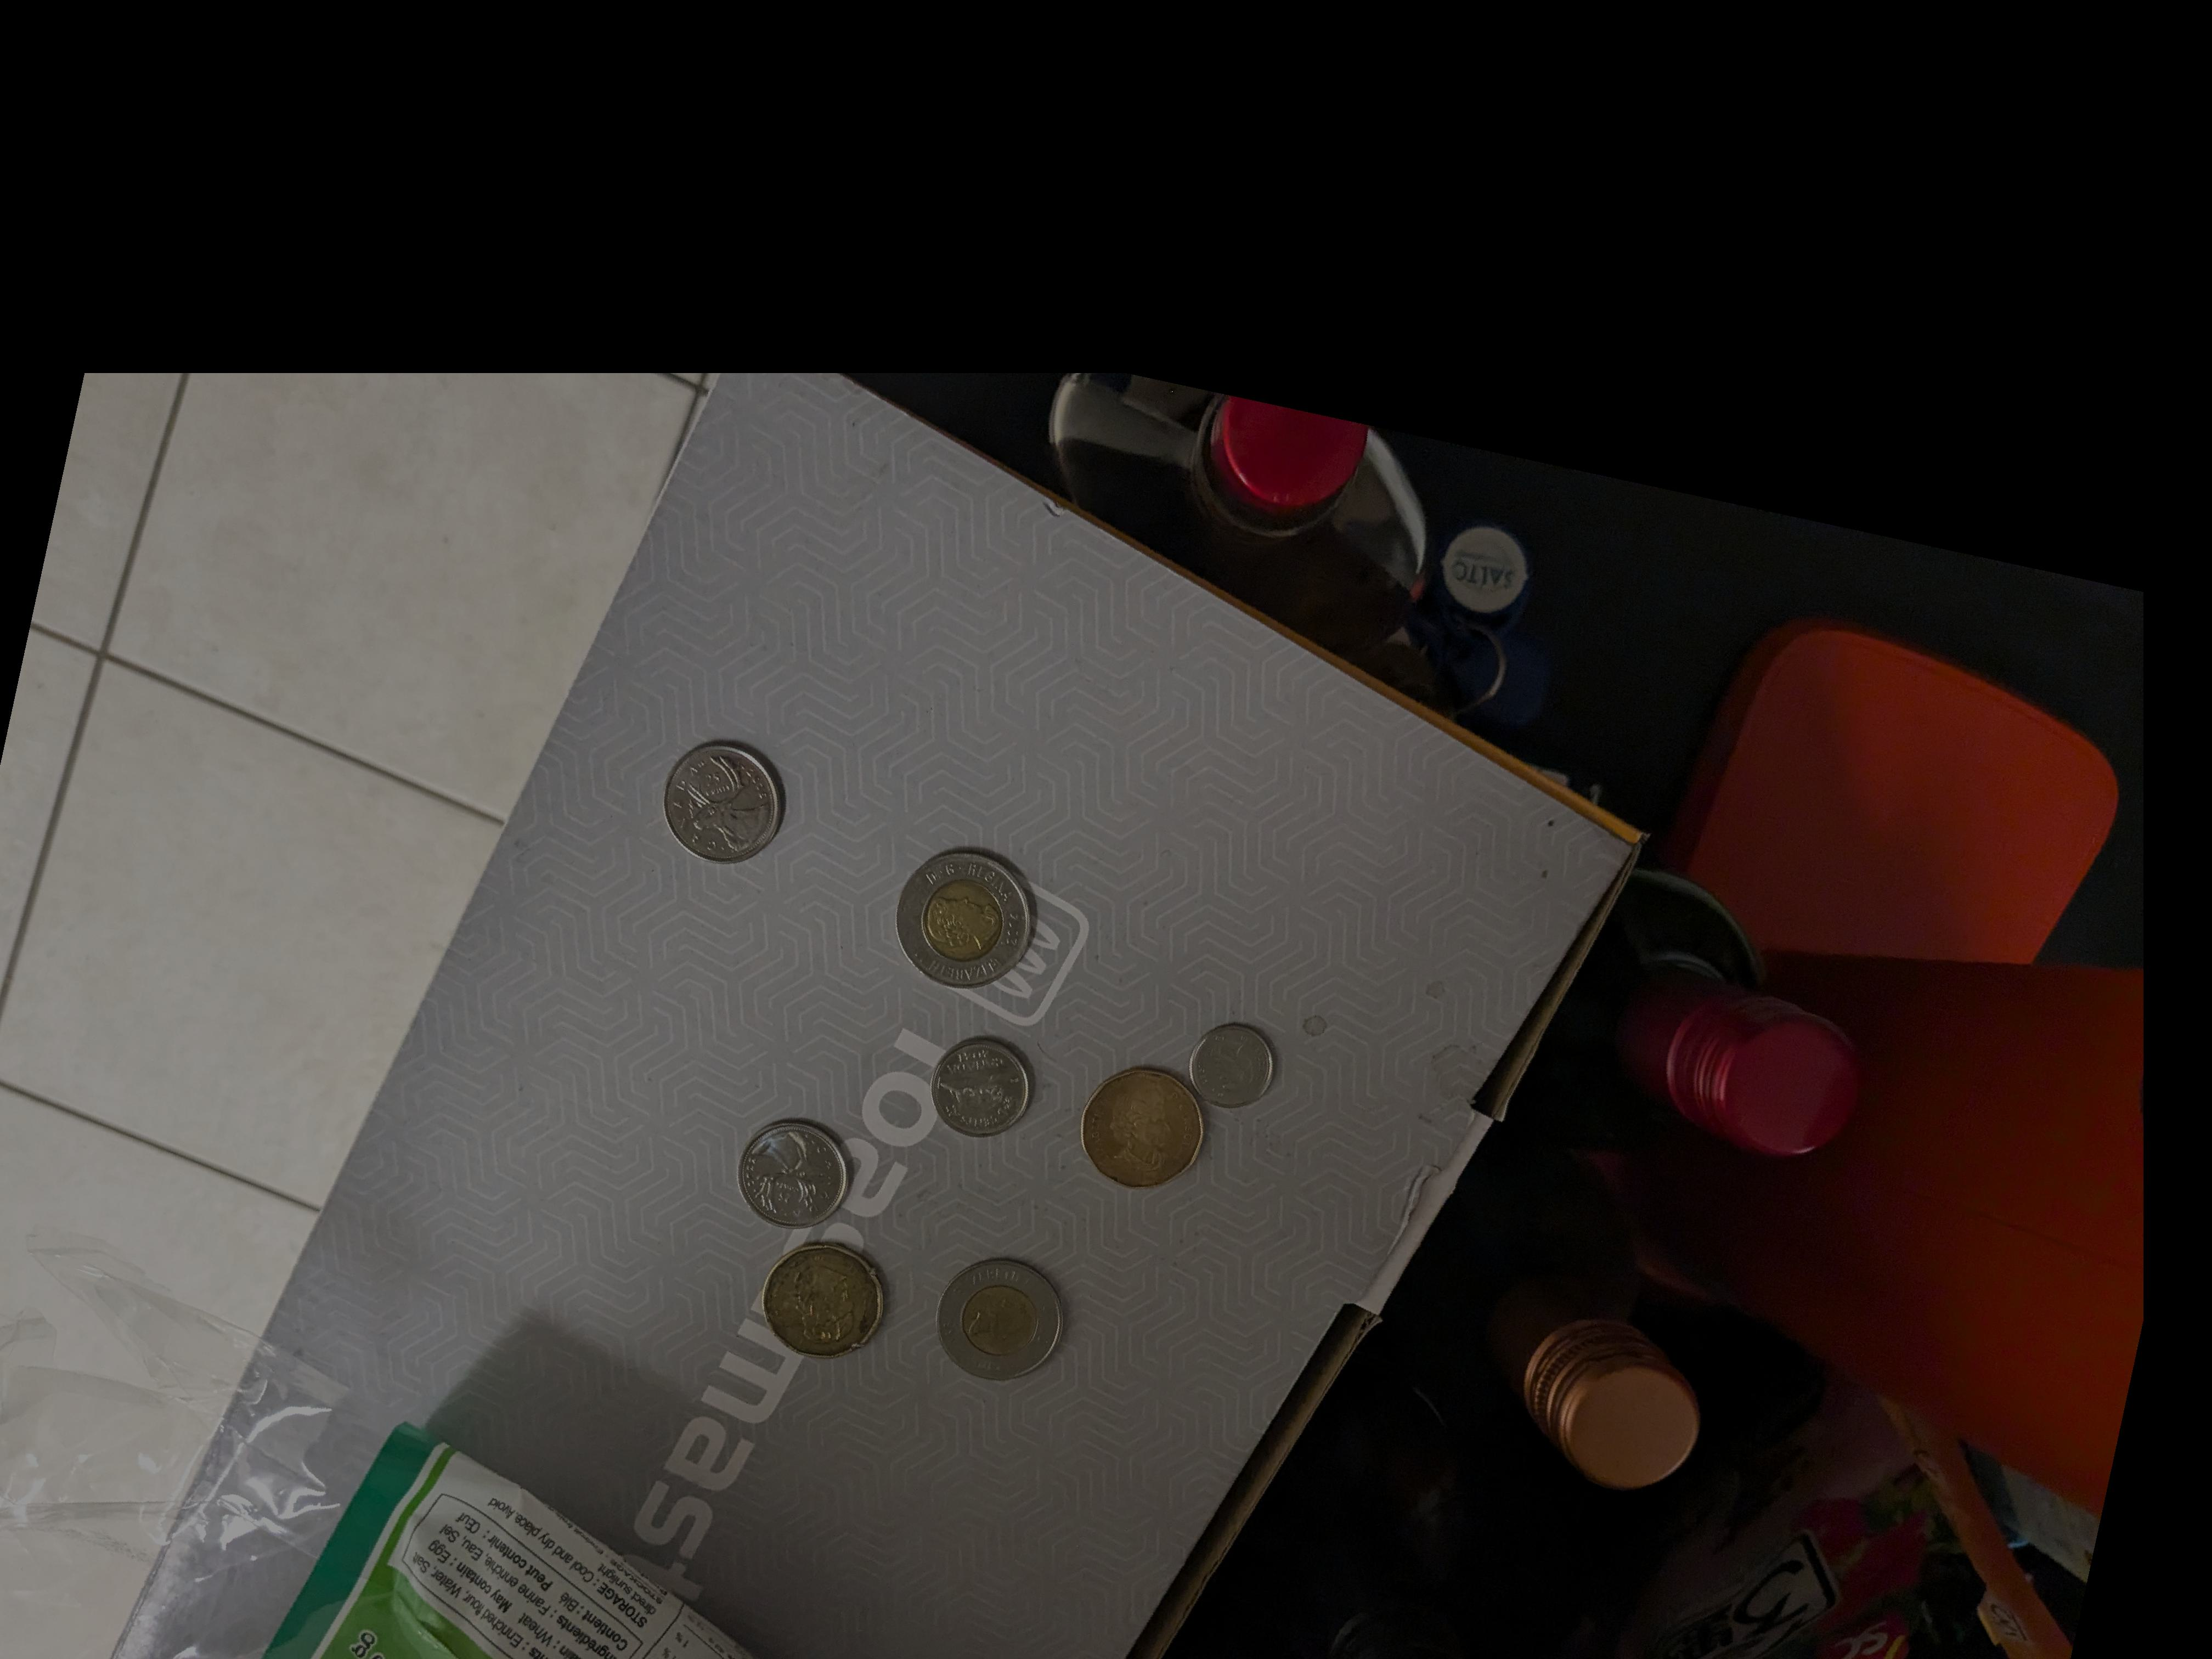dime: (1190, 1019, 1285, 1115)
loonie: (1075, 1065, 1211, 1199), (759, 1239, 892, 1359)
nickel: (934, 1035, 1036, 1136)
quarter: (662, 737, 789, 873), (737, 1115, 857, 1227)
toonie: (894, 845, 1036, 993), (935, 1258, 1071, 1387)
